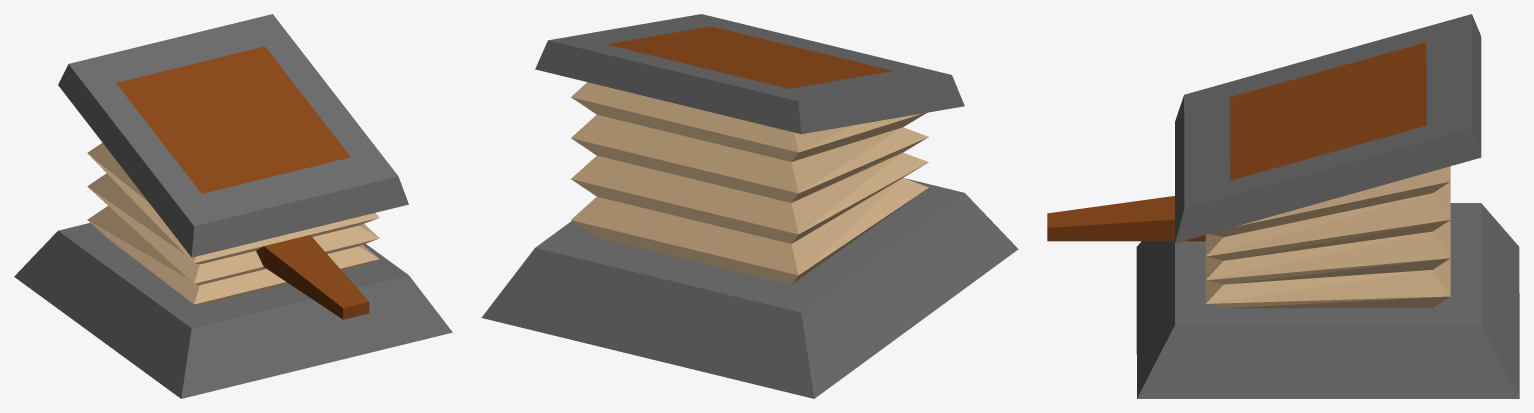
File: Prop_Bellows_01.fbx
The picture shows the model from 3 angles, left to right: view 1: azimuth 30°, elevation 25°; view 2: azimuth 150°, elevation 25°; view 3: azimuth 270°, elevation 25°; orthographic projection. The views are drawn at different scales.
Visible parts, largest first — view 1: Prop_Bellows_01; view 2: Prop_Bellows_01; view 3: Prop_Bellows_01.
Boxes of the visible parts, left/top/right/bottom form: Prop_Bellows_01: left=14, top=14, right=452, bottom=398; Prop_Bellows_01: left=481, top=14, right=1018, bottom=398; Prop_Bellows_01: left=1047, top=14, right=1519, bottom=398.
Bounding box in the file's own units: 46.05 × 35.55 × 60.46.
